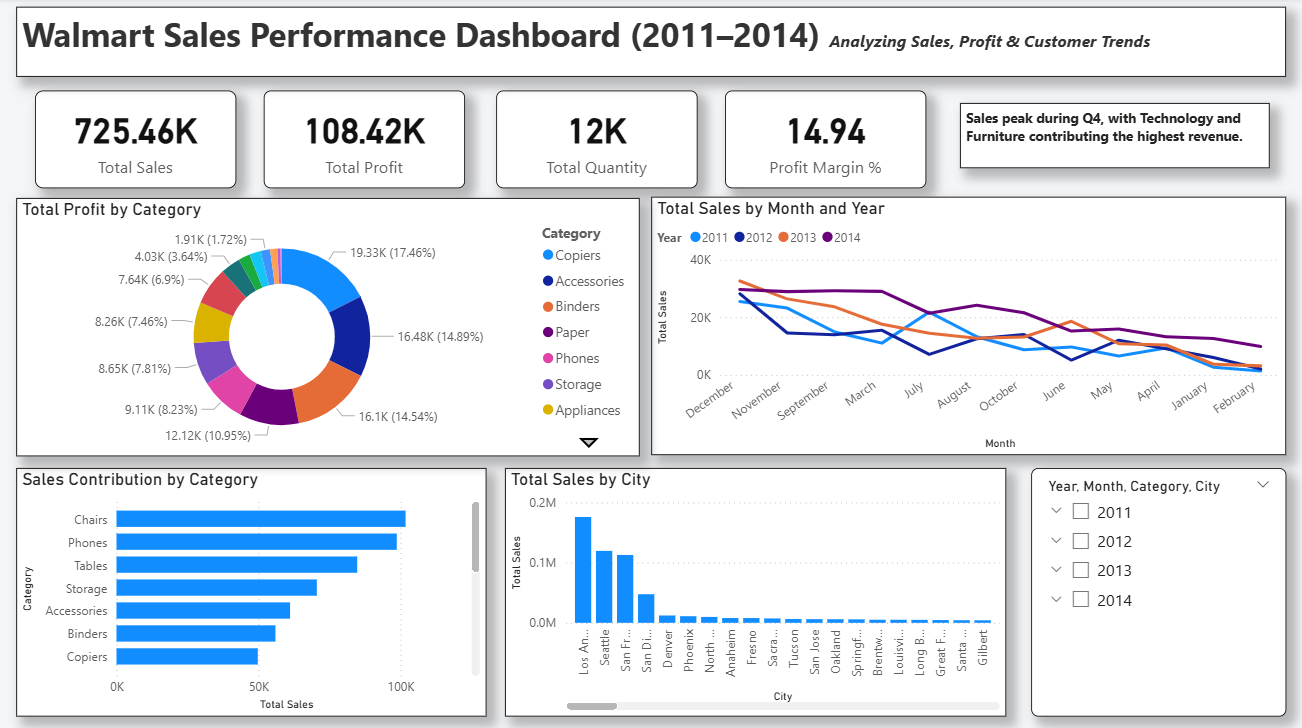

The page's visual inventory and layout, read from the dashboard file:
{"tool":"powerbi","page":{"name":"Walmart sales performance dashboard","canvas":[1280,720],"ordinal":0},"visuals":[{"type":"card","fields":{"Values":["Walmart.Total Sales"]},"box":[34.4,90.8,197.5,95.7],"z":0},{"type":"card","fields":{"Values":["Walmart.Total Profit"]},"box":[258.9,90.8,197.5,95.7],"z":1000},{"type":"card","fields":{"Values":["Walmart.Total Quantity"]},"box":[487.1,90.8,197.5,95.7],"z":2000},{"type":"card","fields":{"Values":["Walmart.Profit Margin %"]},"box":[711.7,90.8,197.5,95.7],"z":3000},{"type":"lineChart","fields":{"Category":["Walmart.Month"],"Y":["Walmart.Total Sales"],"Series":["Walmart.Year"]},"box":[639.3,195.1,623.3,254],"z":4000},{"type":"barChart","title":"Sales Contribution by Category","fields":{"Category":["Walmart.Category"],"Y":["Walmart.Total Sales"]},"box":[16,461.4,461.4,244.2],"z":5000},{"type":"columnChart","fields":{"Category":["Walmart.City"],"Y":["Walmart.Total Sales"]},"box":[495.7,461.4,492,244.2],"z":6000},{"type":"donutChart","fields":{"Category":["Walmart.Category"],"Y":["Walmart.Total Profit"]},"box":[16,196.3,612.3,254],"z":7000},{"type":"slicer","fields":{"Values":["Walmart.Year","Walmart.Month","Walmart.Category","Walmart.City"]},"box":[1012.3,461.4,250.3,244.2],"z":8000},{"type":"textbox","box":[16,8.6,1246.6,68.7],"z":9000},{"type":"textbox","box":[942.3,103.1,304.3,63.8],"z":10000}]}

Visuals, with their boxes in screenshot pixels (x1, y1, x2, y2), scaled from the page's 1280x720 canvas onto the 1302x728 screenshot:
card - Walmart.Total Sales: box=[35, 92, 236, 189]
card - Walmart.Total Profit: box=[263, 92, 464, 189]
card - Walmart.Total Quantity: box=[495, 92, 696, 189]
card - Walmart.Profit Margin %: box=[724, 92, 925, 189]
lineChart - Walmart.Month x Walmart.Total Sales: box=[650, 197, 1284, 454]
"Sales Contribution by Category" barChart: box=[16, 467, 486, 713]
columnChart - Walmart.City x Walmart.Total Sales: box=[504, 467, 1005, 713]
donutChart - Walmart.Category x Walmart.Total Profit: box=[16, 198, 639, 455]
slicer - Walmart.Year x Walmart.Month: box=[1030, 467, 1284, 713]
textbox: box=[16, 9, 1284, 78]
textbox: box=[958, 104, 1268, 169]
